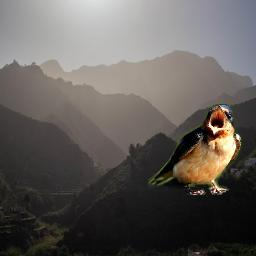Swallow: (148, 104, 242, 195)
